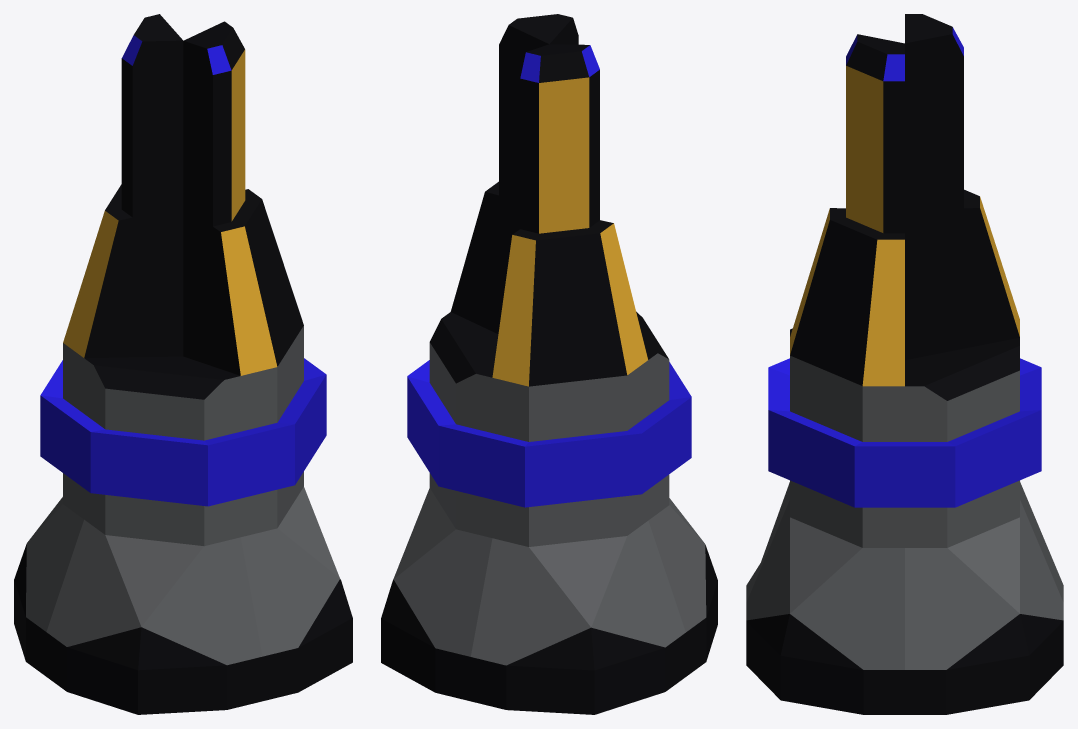
File: cannon_1.fbx
The picture shows the model from 3 angles, left to right: view 1: azimuth 30°, elevation 25°; view 2: azimuth 150°, elevation 25°; view 3: azimuth 270°, elevation 25°; orthographic projection.
Visible parts, largest first — view 1: cannon_1; view 2: cannon_1; view 3: cannon_1.
Boxes of the visible parts, x1,y1,x2,y2 form: cannon_1: (14,14,352,714); cannon_1: (381,14,717,714); cannon_1: (746,14,1063,714).
Size of the model in its own units: 183 by 392 by 183.
